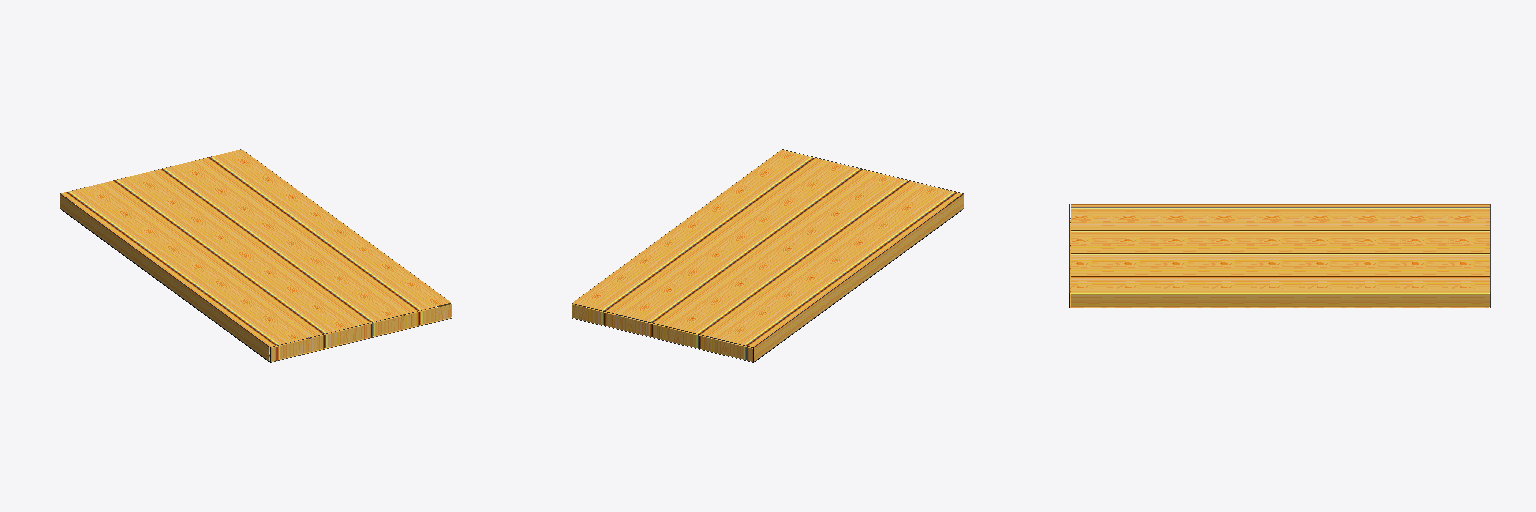
3 renders of one model, left to right at view 1: azimuth 30°, elevation 25°; view 2: azimuth 150°, elevation 25°; view 3: azimuth 270°, elevation 25°, orthographic.
Visible parts, largest first — view 1: Cube; view 2: Cube; view 3: Cube.
Boxes of the visible parts, <box> form: Cube: <box>60,149,451,362</box>; Cube: <box>572,149,963,362</box>; Cube: <box>1069,204,1490,307</box>.
Bounding box in the file's own units: 5 × 0.4 × 10.
Materials: 1 (1 with a texture image).